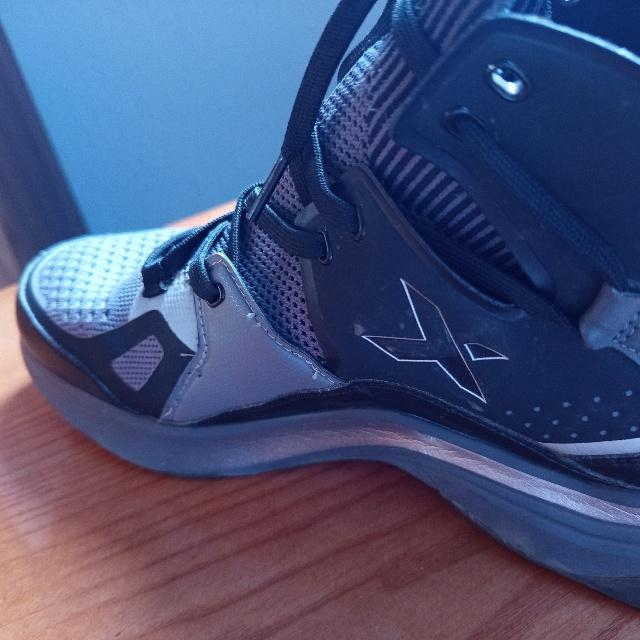broken: (162, 388, 184, 416), (244, 307, 264, 334)
